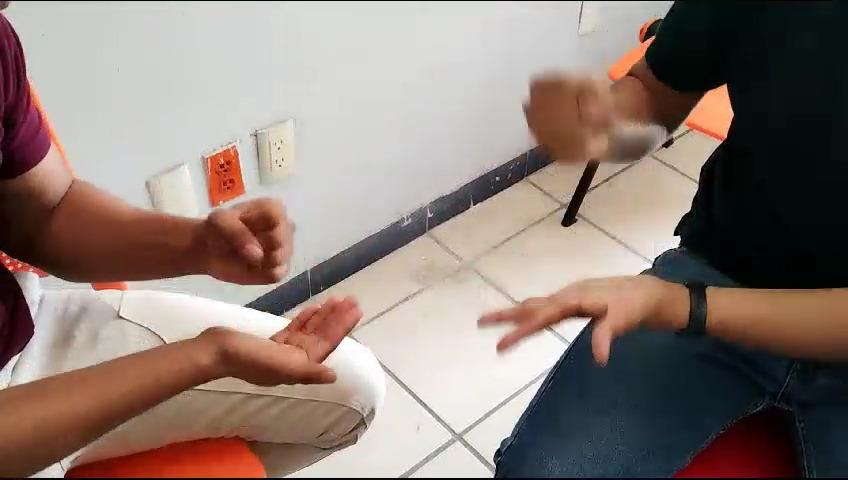Paper: (465, 260, 688, 363)
Stone: (192, 183, 302, 298), (517, 64, 628, 174)
